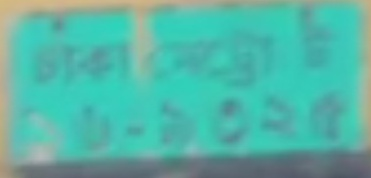1: (22, 103, 66, 158)
2: (257, 88, 303, 148)
3: (207, 95, 252, 149)
5: (307, 87, 350, 148)
6: (71, 103, 115, 159)
9: (154, 95, 200, 152)
dhaka-metro: (27, 19, 278, 86)
number_169325: (15, 92, 355, 160)
ta: (295, 17, 342, 77)
text: (21, 11, 344, 87)
